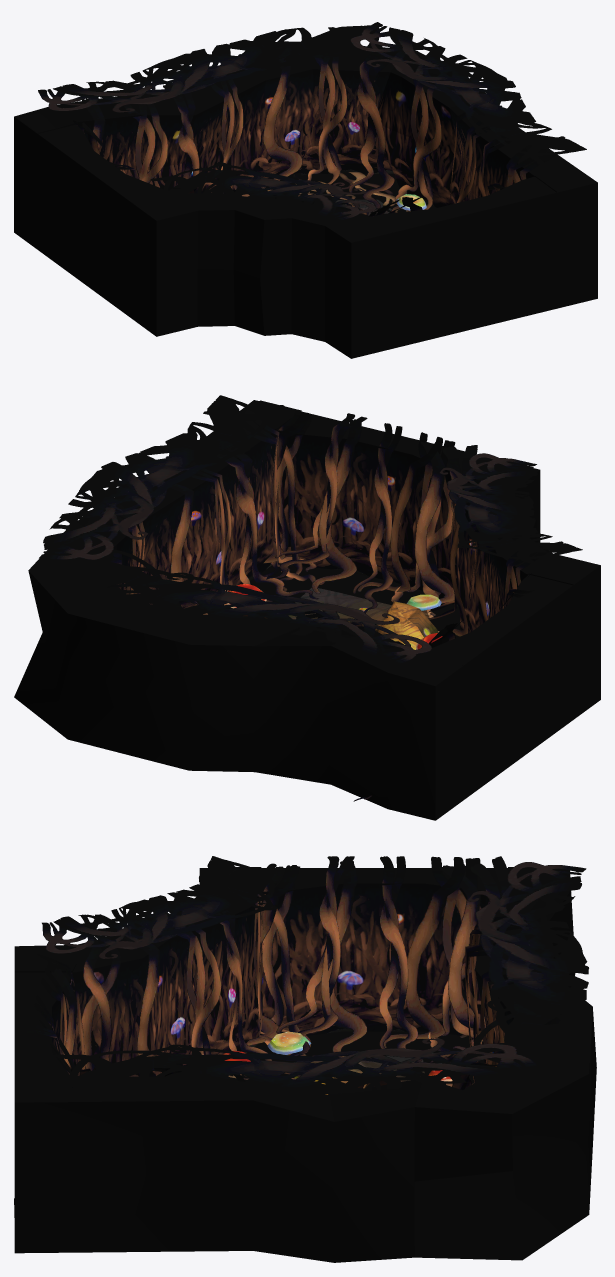
Rendered from Dungeon_021_RoadL_003.fbx.
The picture shows the model from 3 angles, top to bottom: view 1: azimuth 30°, elevation 25°; view 2: azimuth 150°, elevation 25°; view 3: azimuth 270°, elevation 25°; orthographic projection. The views are drawn at different scales.
Visible parts, largest first — view 1: Dan1, un_021_Door_002 (×2), Dungeon_021_Tsuta_002, Dungeon_021_Tsuta_001, Dan1_shadow, un_021_Door_002_Object1 (×2), Dungeon_021_Tsuta_003; view 2: Dan1, un_021_Door_002 (×2), Dungeon_021_Tsuta_002, un_021_Door_002_Object1 (×2), Dungeon_021_Tsuta_001, Dan1_shadow, Dungeon_011_Object_012, Dun_011_Door_002_shadow, Dan2; view 3: Dan1, Dungeon_021_Tsuta_002, un_021_Door_002 (×2), un_021_Door_002_Object1 (×2), Dungeon_021_Tsuta_001, Dan1_shadow, Dun_011_Door_002_shadow, Kinoko03.
Part boxes in pixels (<box>): Dan1: <box>14,46,597,358</box>; un_021_Door_002 (×2): <box>17,113,592,348</box>; Dungeon_021_Tsuta_002: <box>38,22,586,222</box>; Dungeon_021_Tsuta_001: <box>82,44,555,215</box>; Dan1_shadow: <box>261,173,532,316</box>; un_021_Door_002_Object1 (×2): <box>73,120,506,216</box>; Dungeon_021_Tsuta_003: <box>261,171,404,214</box>; Dan1: <box>14,400,600,820</box>; un_021_Door_002 (×2): <box>243,400,596,800</box>; Dungeon_021_Tsuta_002: <box>39,395,582,666</box>; un_021_Door_002_Object1 (×2): <box>259,411,533,801</box>; Dungeon_021_Tsuta_001: <box>80,408,549,648</box>; Dan1_shadow: <box>223,564,460,637</box>; Dungeon_011_Object_012: <box>376,601,438,649</box>; Dun_011_Door_002_shadow: <box>318,569,424,604</box>; Dan2: <box>288,587,391,630</box>; Dan1: <box>14,868,596,1262</box>; Dungeon_021_Tsuta_002: <box>42,856,589,1095</box>; un_021_Door_002 (×2): <box>14,867,561,1097</box>; un_021_Door_002_Object1 (×2): <box>26,856,509,1074</box>; Dungeon_021_Tsuta_001: <box>80,867,561,1089</box>; Dan1_shadow: <box>14,1031,484,1217</box>; Dun_011_Door_002_shadow: <box>320,1031,424,1054</box>; Kinoko03: <box>267,1031,311,1055</box>.
Size of what is drawn, in the model's own units: 7.27 by 2.36 by 7.14.
